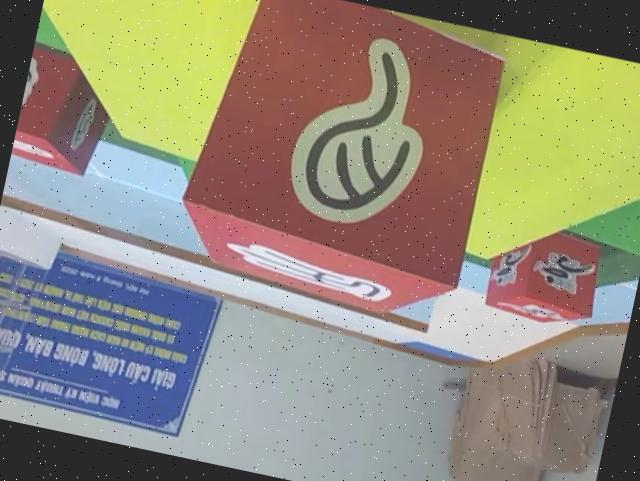R1: (484, 217, 613, 338)
R2 Fake: (167, 0, 514, 334)
R2 Real: (10, 36, 126, 182)
